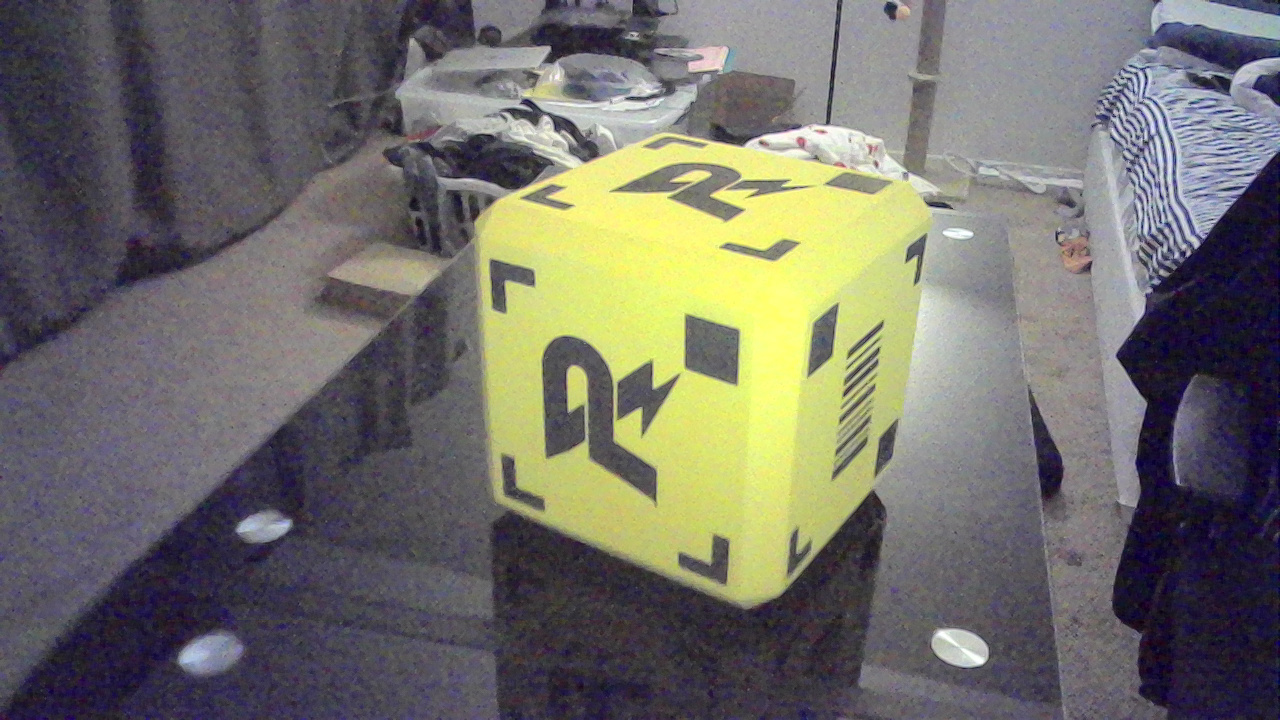Barcode: (835, 317, 903, 487)
R: (543, 319, 693, 515), (610, 162, 820, 233)
